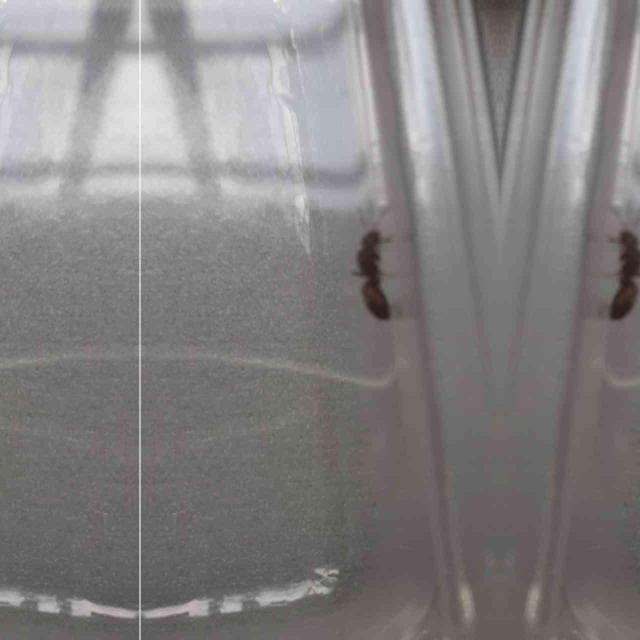Lasius: (351, 212, 404, 322), (596, 212, 640, 322)
